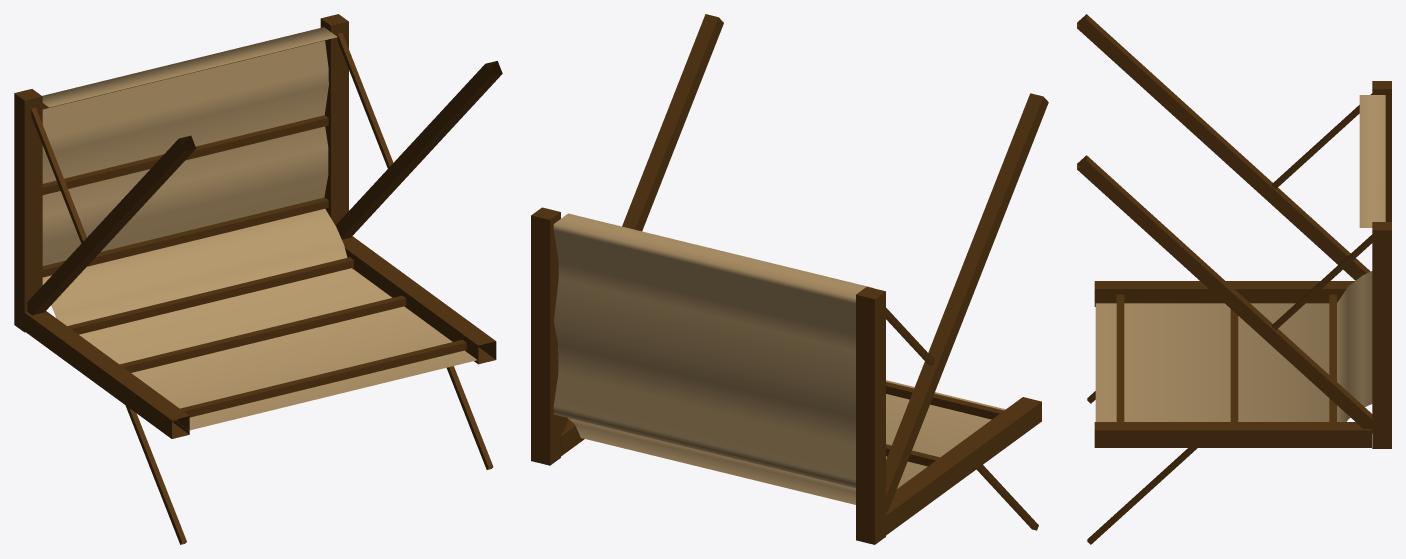
The model's file is Market_Simple_Stall.fbx.
The picture shows the model from 3 angles, left to right: view 1: azimuth 30°, elevation 25°; view 2: azimuth 150°, elevation 25°; view 3: azimuth 270°, elevation 25°; orthographic projection. The views are drawn at different scales.
Parts seen in each view (by area): view 1: Plane.001; view 2: Plane.001; view 3: Plane.001.
Part boxes in pixels (box(x1,y1,x2,y2)): Plane.001: box(14, 14, 502, 544); Plane.001: box(531, 14, 1048, 544); Plane.001: box(1077, 14, 1391, 544).
Size of the model in its own units: 847 by 1020 by 755.
